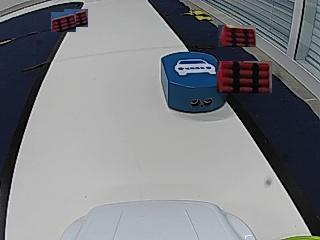safety: (174, 57, 217, 76)
